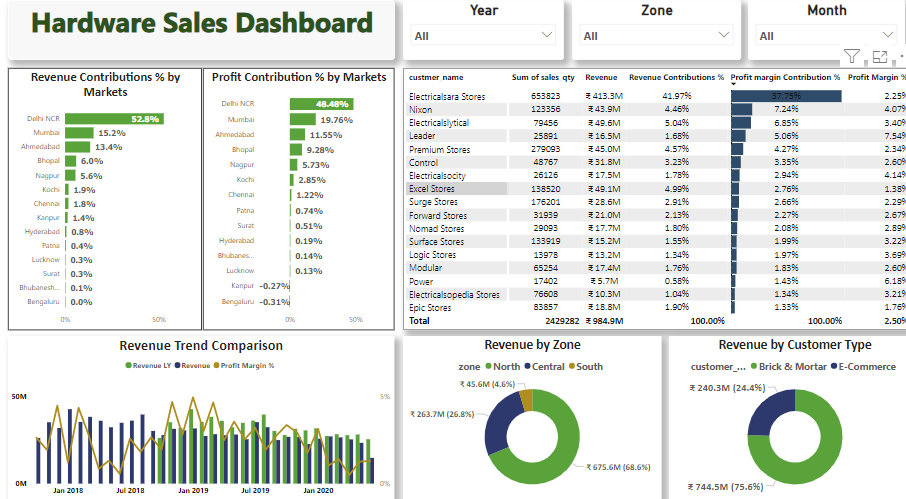

This screenshot's page, from the dashboard's own definition file:
{"tool":"powerbi","page":{"name":"Page 2","canvas":[1542,835],"ordinal":1},"visuals":[{"type":"shape","title":"Hardware Sales Dashboard","box":[20,0,645,100],"z":0},{"type":"slicer","title":"Year","fields":{"Values":["calender.year"]},"box":[678.3,0,268.3,100],"z":1000},{"type":"slicer","title":"Zone ","fields":{"Values":["markets.zone"]},"box":[960,0,281.7,100],"z":2000},{"type":"slicer","title":"Month","fields":{"Values":["calender.month_name"]},"box":[1253.3,0,261.7,100],"z":3000},{"type":"clusteredBarChart","title":"Revenue Contributions % by Markets","fields":{"Category":["markets.markets_name"],"Y":["Key Measures.Revenue Contributions %"]},"box":[20,112.9,322.9,437.1],"z":4000},{"type":"clusteredBarChart","title":"Profit Contribution % by Markets","fields":{"Category":["markets.markets_name"],"Y":["Key Measures.Profit margin Contribution %"]},"box":[345.7,112.9,318.6,437.1],"z":5000},{"type":"pivotTable","fields":{"Rows":["customers.custmer_name"],"Values":["transactions.sales_qty","Key Measures.Revenue","Key Measures.Revenue Contributions %","Key Measures.Profit margin Contribution %","Key Measures.Profit Margin %"]},"box":[678.6,112.9,862.9,437.1],"z":6000},{"type":"lineClusteredColumnComboChart","title":"Revenue Trend Comparison","fields":{"Category":["calender.cy_date"],"Y":["Key Measures.Revenue LY","Key Measures.Revenue"],"Y2":["Key Measures.Profit Margin %"]},"box":[20,560,644.3,275.7],"z":7000},{"type":"donutChart","title":"Revenue by Zone","fields":{"Category":["markets.zone"],"Y":["Key Measures.Revenue"]},"box":[678.6,560,431.4,275.7],"z":8000},{"type":"donutChart","title":"Revenue by Customer Type","fields":{"Category":["customers.customer_type"],"Y":["Key Measures.Revenue"]},"box":[1121.4,560,420,275.7],"z":9000}]}

Visuals, with their boxes in screenshot pixels (x1, y1, x2, y2), scaled from the page's 1542x835 canvas onto the 906x499 screenshot:
"Hardware Sales Dashboard" shape: <bbox>12, 0, 391, 60</bbox>
"Year" slicer: <bbox>399, 0, 556, 60</bbox>
"Zone " slicer: <bbox>564, 0, 730, 60</bbox>
"Month" slicer: <bbox>736, 0, 890, 60</bbox>
"Revenue Contributions % by Markets" clusteredBarChart: <bbox>12, 67, 201, 329</bbox>
"Profit Contribution % by Markets" clusteredBarChart: <bbox>203, 67, 390, 329</bbox>
pivotTable - customers.custmer_name x transactions.sales_qty: <bbox>399, 67, 905, 329</bbox>
"Revenue Trend Comparison" lineClusteredColumnComboChart: <bbox>12, 335, 390, 498</bbox>
"Revenue by Zone" donutChart: <bbox>399, 335, 652, 498</bbox>
"Revenue by Customer Type" donutChart: <bbox>659, 335, 905, 498</bbox>
